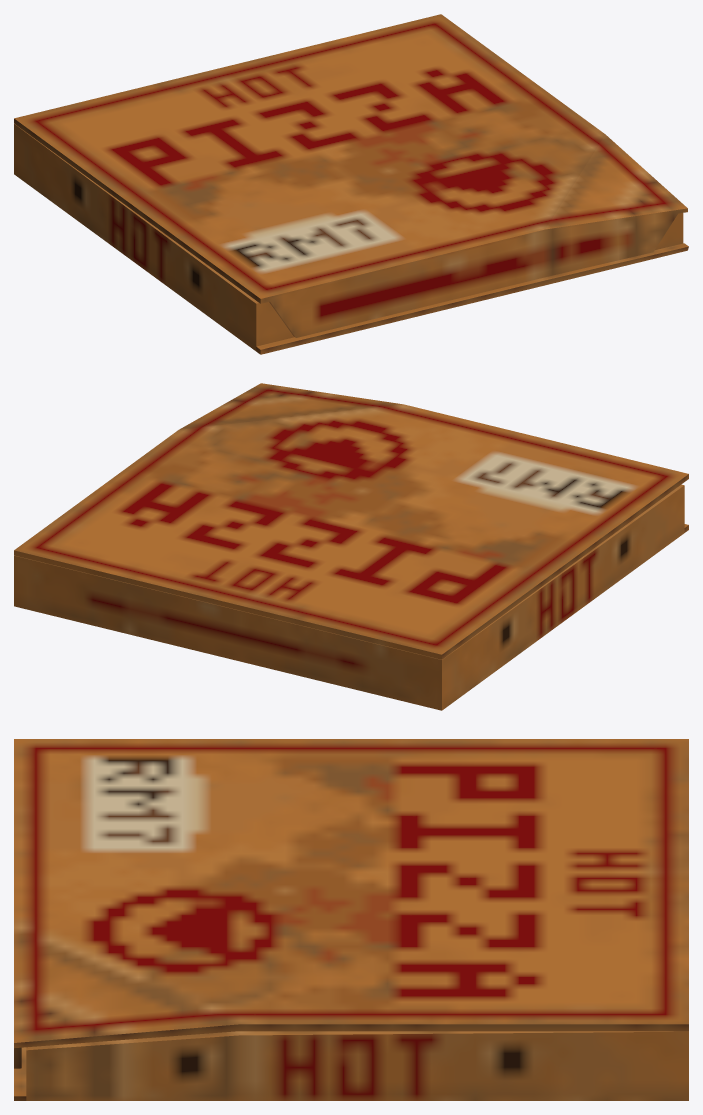
The model's file is SM_Motel_PizzaBox.obj.
3 renders of one model, top to bottom at view 1: azimuth 30°, elevation 25°; view 2: azimuth 150°, elevation 25°; view 3: azimuth 270°, elevation 25°, orthographic. The views are drawn at different scales.
Visible parts, largest first — view 1: SM_Motel_PizzaBox_Lid, SM_Motel_PizzaBox; view 2: SM_Motel_PizzaBox_Lid, SM_Motel_PizzaBox; view 3: SM_Motel_PizzaBox_Lid, SM_Motel_PizzaBox.
Boxes of the visible parts, box(x1,y1,x2,y2) form: SM_Motel_PizzaBox_Lid: box(14, 14, 687, 337); SM_Motel_PizzaBox: box(14, 123, 688, 354); SM_Motel_PizzaBox_Lid: box(14, 383, 688, 659); SM_Motel_PizzaBox: box(14, 484, 688, 710); SM_Motel_PizzaBox_Lid: box(14, 739, 688, 1068); SM_Motel_PizzaBox: box(14, 1031, 688, 1100).
Bounding box in the file's own units: 0.3609 × 0.045 × 0.36.
Materials: 1 (1 with a texture image).
